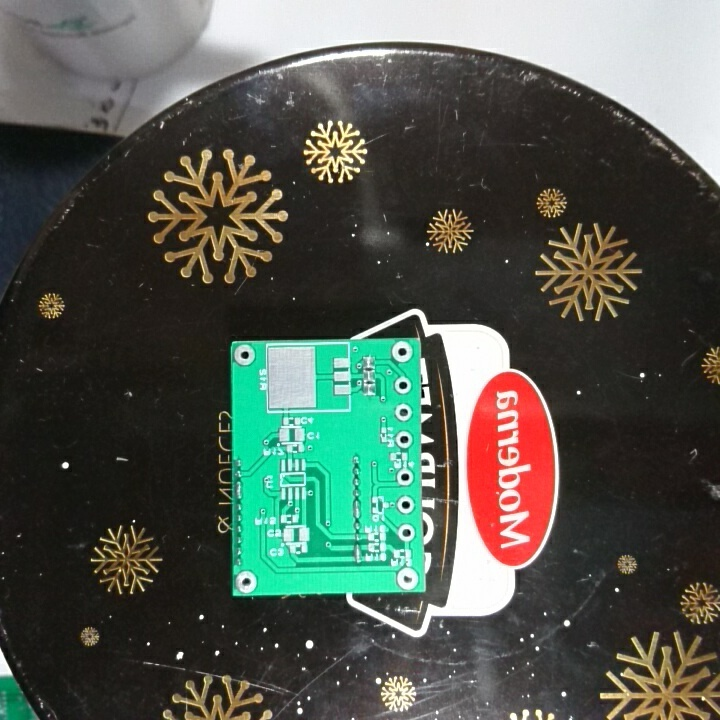F: (234, 567, 261, 595), (395, 564, 419, 591), (233, 343, 258, 368), (389, 340, 414, 365), (396, 520, 418, 543), (392, 375, 414, 397), (393, 428, 415, 450), (393, 400, 414, 423), (394, 466, 415, 489), (395, 493, 415, 515)
P: (352, 542, 365, 565), (351, 498, 364, 520), (233, 478, 245, 501)
